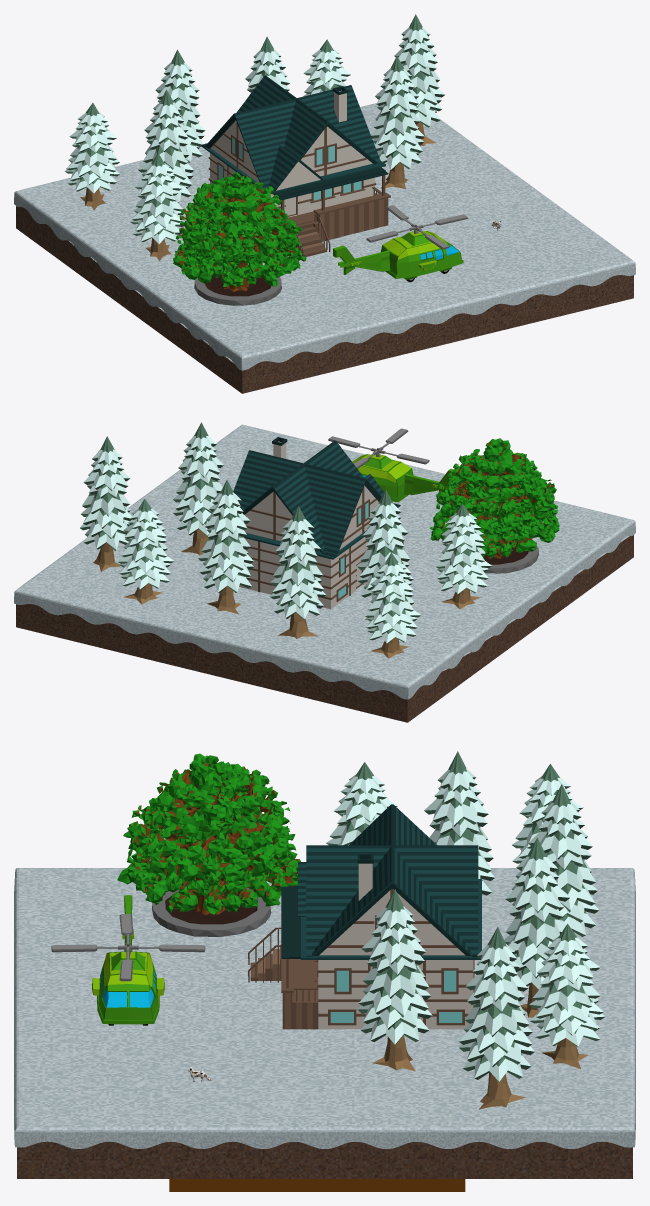
3 renders of one model, top to bottom at view 1: azimuth 30°, elevation 25°; view 2: azimuth 150°, elevation 25°; view 3: azimuth 270°, elevation 25°, orthographic. The views are drawn at different scales.
Parts seen in each view (by area): view 1: Cube.003, Cube.793, OBJRANDOM_CEIBA, VEHICLES_HELICOPTER; view 2: Cube.003, Cube.793, OBJRANDOM_CEIBA, VEHICLES_HELICOPTER; view 3: Cube.003, Cube.793, OBJRANDOM_CEIBA, VEHICLES_HELICOPTER, UNDERGROUND_ART_PIECE_VAN_GOGH.
Boxes of the visible parts, x1,y1,x2,y2 form: Cube.003: (14, 14, 635, 393); Cube.793: (201, 75, 390, 256); OBJRANDOM_CEIBA: (173, 172, 306, 305); VEHICLES_HELICOPTER: (333, 205, 467, 282); Cube.003: (14, 422, 635, 722); Cube.793: (233, 437, 403, 609); OBJRANDOM_CEIBA: (430, 438, 559, 573); VEHICLES_HELICOPTER: (328, 428, 458, 502); Cube.003: (14, 751, 635, 1178); Cube.793: (248, 804, 481, 1029); OBJRANDOM_CEIBA: (117, 753, 300, 936); VEHICLES_HELICOPTER: (51, 895, 205, 1025); UNDERGROUND_ART_PIECE_VAN_GOGH: (169, 1179, 465, 1191).
Bounding box in the file's own units: 4040 × 1818 × 4040.
Materials: 29 (5 with a texture image).
